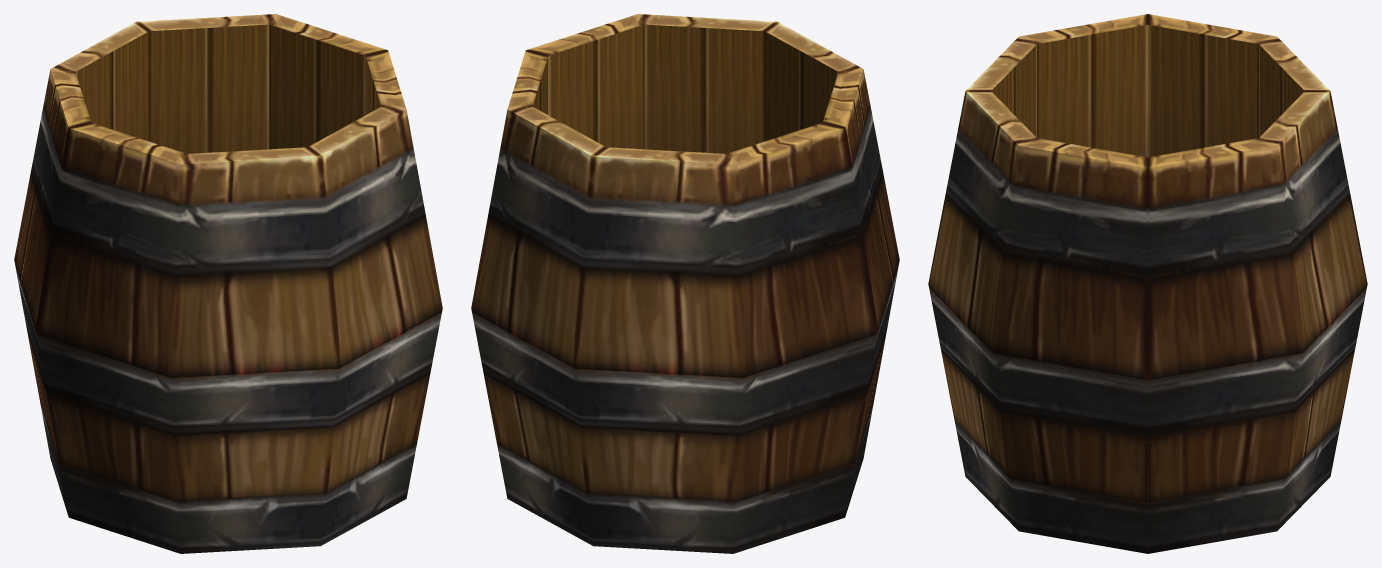
The model's file is Tong05.FBX.
3 renders of one model, left to right at view 1: azimuth 30°, elevation 25°; view 2: azimuth 150°, elevation 25°; view 3: azimuth 270°, elevation 25°, orthographic.
Parts seen in each view (by area): view 1: Tong05; view 2: Tong05; view 3: Tong05.
Part boxes in pixels (bbox=[...]): Tong05: bbox=[14, 14, 442, 553]; Tong05: bbox=[471, 14, 899, 553]; Tong05: bbox=[928, 14, 1367, 553].
Size of the model in its own units: 40.41 by 39.14 by 40.41.
